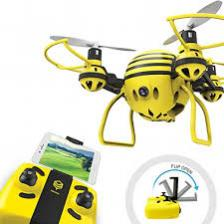drone: (40, 4, 224, 157)
